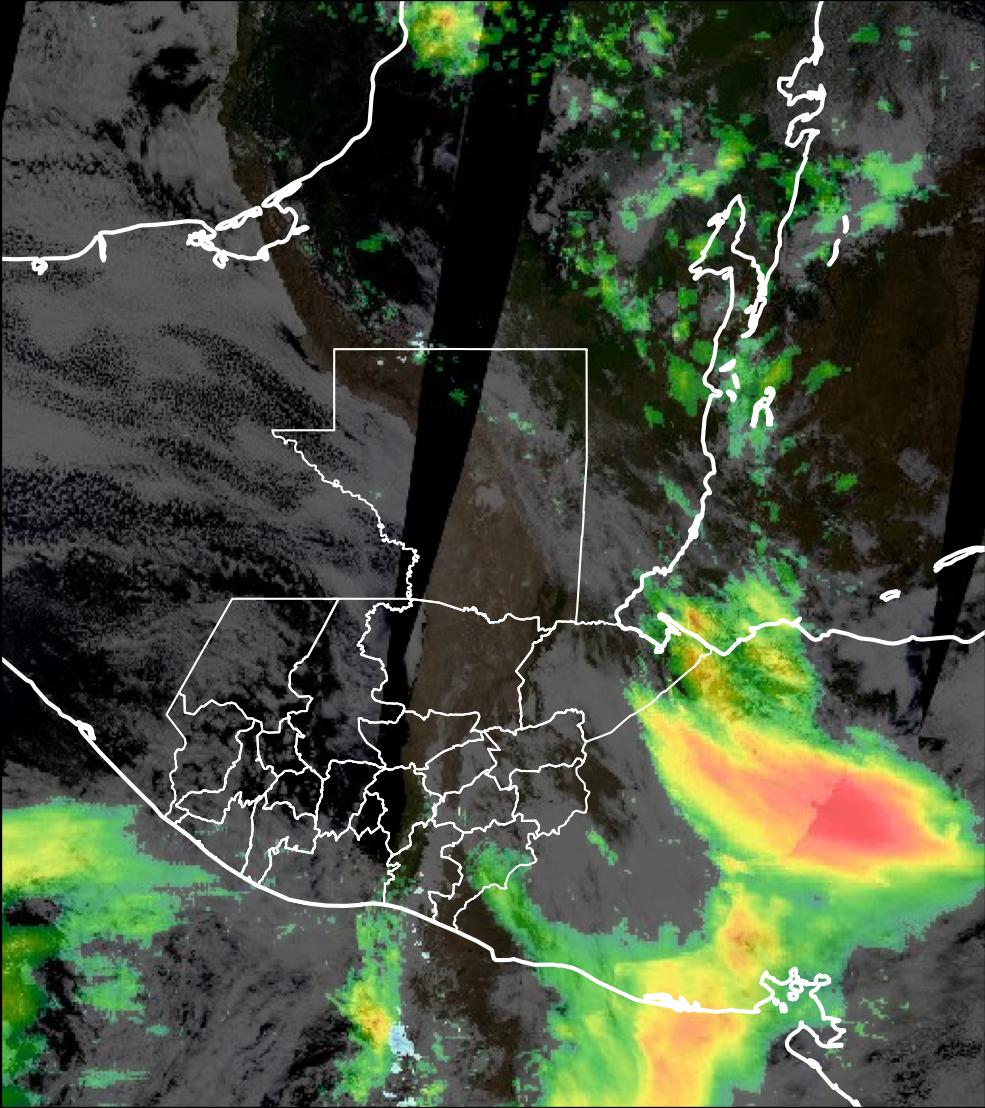precipitacion: (667, 723, 969, 897), (636, 966, 746, 1108)
